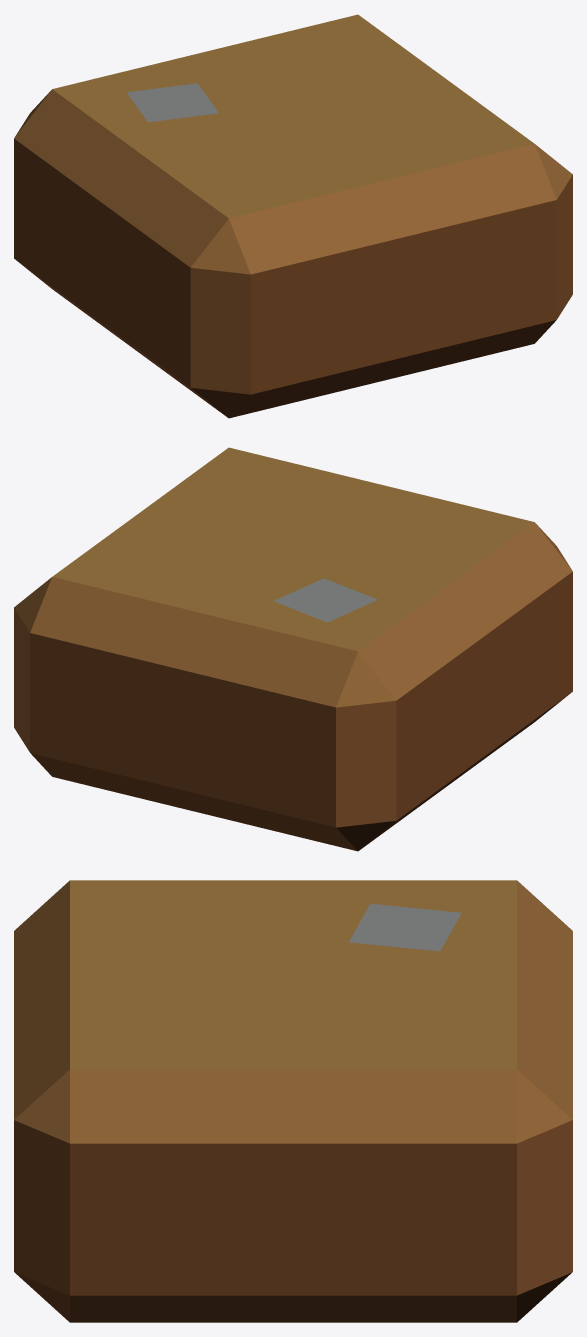
The model's file is m_kub_dirt_flatMini.FBX.
The picture shows the model from 3 angles, top to bottom: view 1: azimuth 30°, elevation 25°; view 2: azimuth 150°, elevation 25°; view 3: azimuth 270°, elevation 25°; orthographic projection. The views are drawn at different scales.
Parts seen in each view (by area): view 1: m_kub_dirt_flatMini; view 2: m_kub_dirt_flatMini; view 3: m_kub_dirt_flatMini.
Boxes of the visible parts, bbox=[...] form: m_kub_dirt_flatMini: bbox=[14, 14, 572, 418]; m_kub_dirt_flatMini: bbox=[14, 447, 572, 851]; m_kub_dirt_flatMini: bbox=[14, 880, 572, 1322].
Bounding box in the file's own units: 1 × 0.5 × 1.
